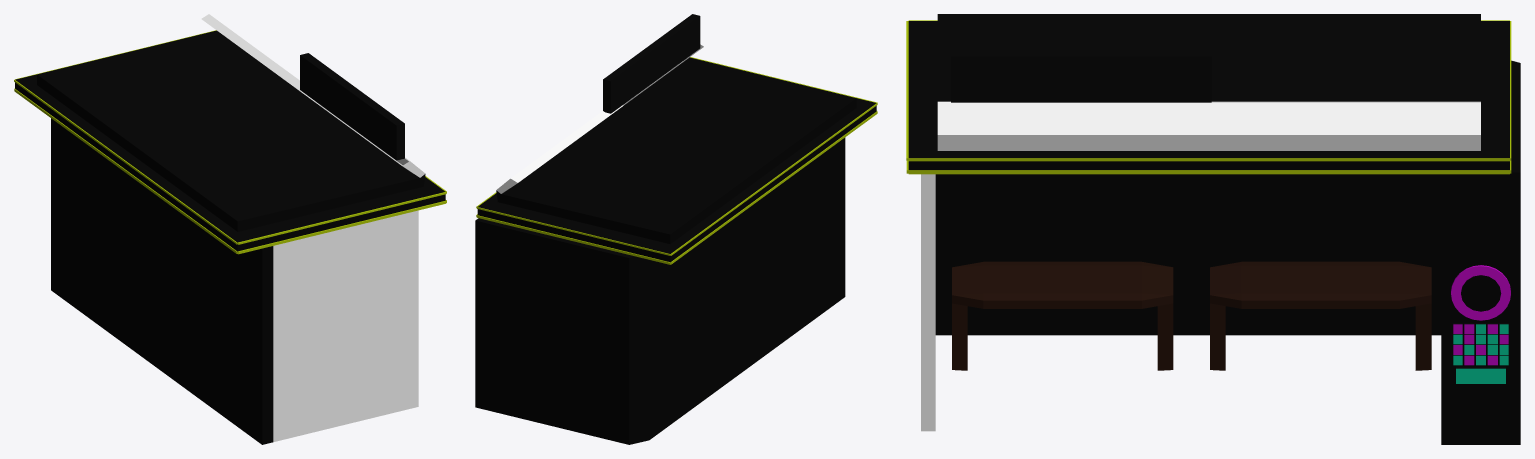
The model's file is Transport Hub.fbx.
3 views of the same model, side by side, from view 1: azimuth 30°, elevation 25°; view 2: azimuth 150°, elevation 25°; view 3: azimuth 270°, elevation 25° (orthographic). The views are drawn at different scales.
Visible parts, largest first — view 1: Transport Hub (×4), Sign (×2); view 2: Transport Hub (×3), Sign (×2); view 3: Transport Hub (×6), Sign (×2), Bench 1, Bench 2.
Part boxes in pixels (x1,y1,x2,y2): Transport Hub (×4): (14, 14, 446, 444); Sign (×2): (300, 53, 404, 160); Transport Hub (×3): (475, 44, 877, 444); Sign (×2): (603, 14, 700, 113); Transport Hub (×6): (906, 14, 1520, 444); Sign (×2): (951, 51, 1211, 102); Bench 1: (1210, 261, 1431, 370); Bench 2: (952, 261, 1173, 370).
Size of the model in its own units: 1263 by 1578 by 2356.
